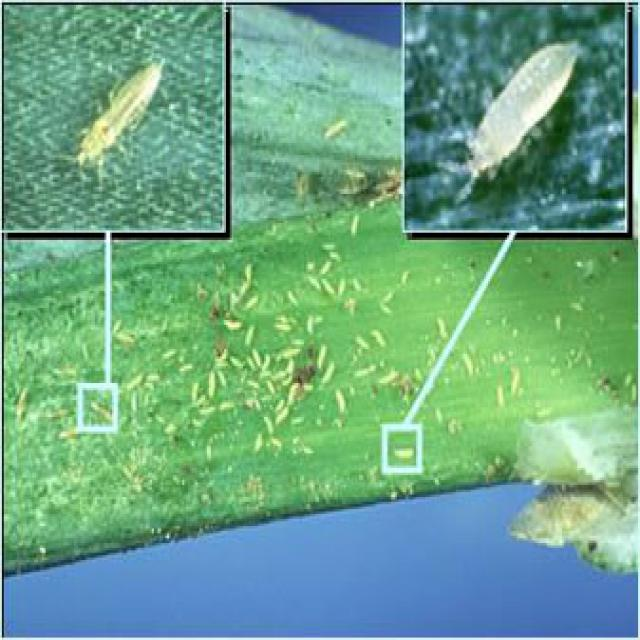Thrip-Adult-: (71, 45, 181, 197)
Thrip-Group-: (195, 213, 392, 492)
Thrip-Larva-: (442, 34, 604, 210)
